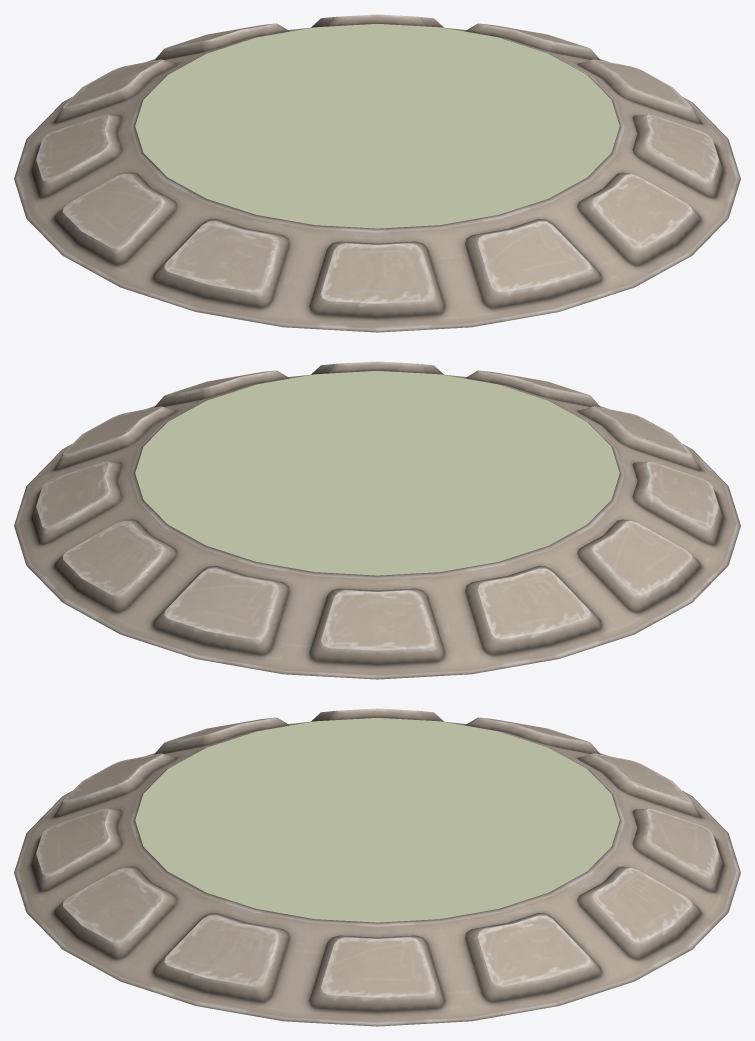
The model's file is regulus_adapter_s1p5_s1_1.obj.
The picture shows the model from 3 angles, top to bottom: view 1: azimuth 30°, elevation 25°; view 2: azimuth 150°, elevation 25°; view 3: azimuth 270°, elevation 25°; orthographic projection.
Parts seen in each view (by area): view 1: regulus_adapter_s1p5_s1_1_regulus_adapter_s1p5_s1_1_auv, regulus_adapter_s1p5_s1_1_default; view 2: regulus_adapter_s1p5_s1_1_regulus_adapter_s1p5_s1_1_auv, regulus_adapter_s1p5_s1_1_default; view 3: regulus_adapter_s1p5_s1_1_regulus_adapter_s1p5_s1_1_auv, regulus_adapter_s1p5_s1_1_default.
Part boxes in pixels (x1=…): regulus_adapter_s1p5_s1_1_regulus_adapter_s1p5_s1_1_auv: x1=14, y1=14, x2=740, y2=332; regulus_adapter_s1p5_s1_1_default: x1=135, y1=24, x2=619, y2=228; regulus_adapter_s1p5_s1_1_regulus_adapter_s1p5_s1_1_auv: x1=14, y1=361, x2=740, y2=679; regulus_adapter_s1p5_s1_1_default: x1=135, y1=371, x2=619, y2=575; regulus_adapter_s1p5_s1_1_regulus_adapter_s1p5_s1_1_auv: x1=14, y1=708, x2=740, y2=1026; regulus_adapter_s1p5_s1_1_default: x1=135, y1=718, x2=619, y2=922.
Bounding box in the file's own units: 1.88 × 0.15 × 1.88.
